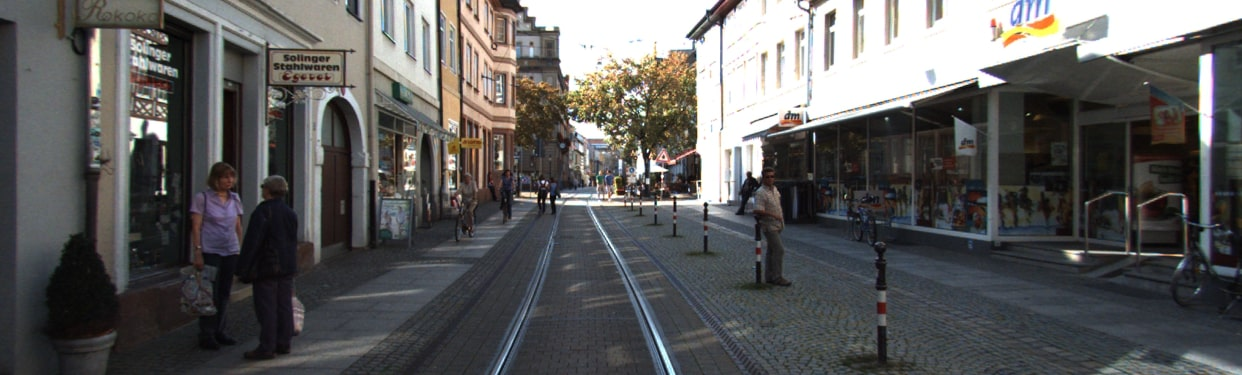Cyclist: (442, 167, 487, 245), (497, 161, 520, 225)
person: (185, 157, 247, 362), (239, 172, 299, 367), (746, 166, 799, 292), (537, 169, 547, 213), (550, 173, 559, 216), (595, 166, 606, 201), (606, 170, 616, 200)
